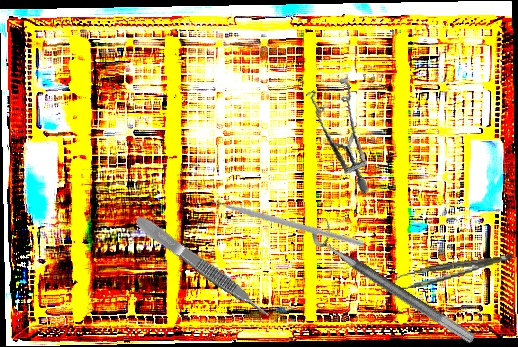Chopper: (202, 148, 365, 285)
Fixation Ring: (305, 214, 485, 346)
Speculum: (287, 68, 393, 195)
Tissue Forceps: (132, 211, 273, 324), (393, 253, 515, 291)
